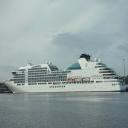cruises: (2, 54, 127, 94)
